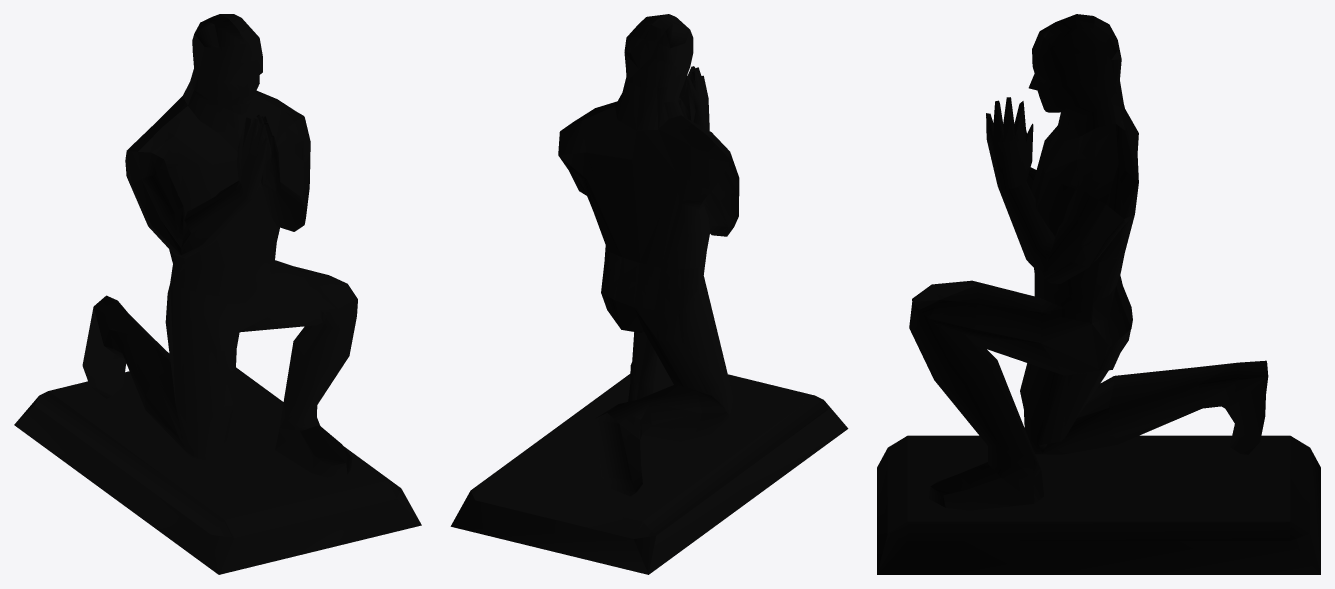
File: statue.gltf
The picture shows the model from 3 angles, left to right: view 1: azimuth 30°, elevation 25°; view 2: azimuth 150°, elevation 25°; view 3: azimuth 270°, elevation 25°; orthographic projection. The views are drawn at different scales.
Visible parts, largest first — view 1: mesh_865; view 2: mesh_865; view 3: mesh_865.
Boxes of the visible parts, x1=… form: mesh_865: x1=14, y1=14, x2=421, y2=574; mesh_865: x1=450, y1=14, x2=848, y2=574; mesh_865: x1=877, y1=14, x2=1320, y2=574.
Size of the model in its own units: 4.4 by 9.6 by 7.68.
1 material, 1 textured.
